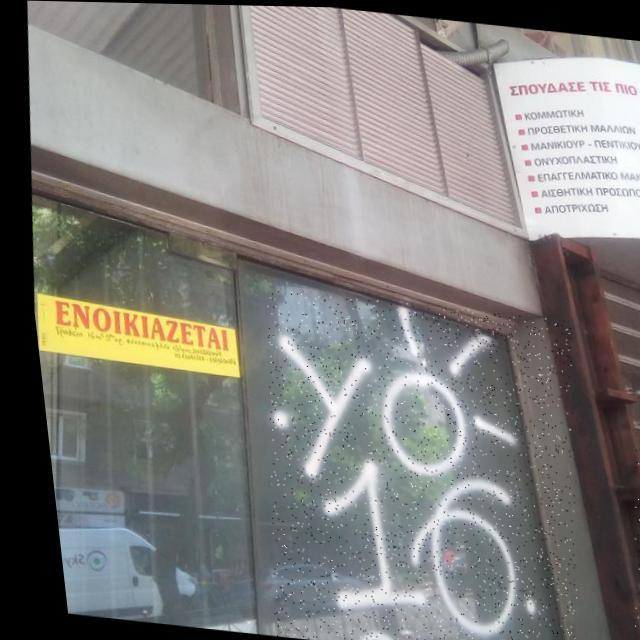-: (229, 286, 591, 640), (603, 444, 640, 640)
